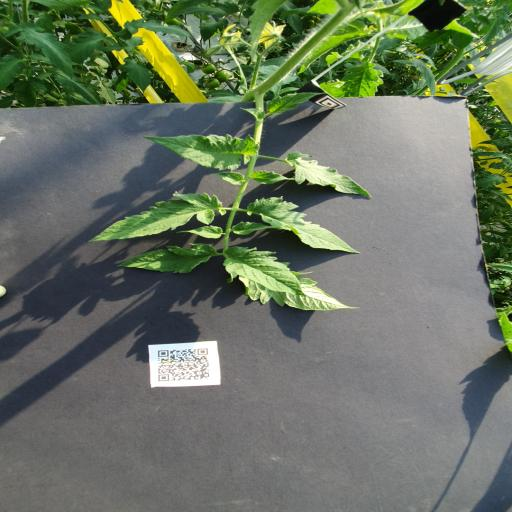Healthy: (88, 190, 227, 242), (245, 196, 361, 254), (248, 270, 361, 310), (144, 134, 260, 171), (286, 150, 371, 200), (4, 22, 74, 80), (222, 246, 303, 293), (118, 243, 217, 274), (341, 62, 384, 97), (124, 18, 194, 38), (266, 92, 326, 114), (67, 30, 105, 64), (12, 76, 49, 108), (123, 56, 152, 94), (199, 20, 229, 42), (178, 225, 222, 239), (252, 170, 295, 184), (233, 221, 269, 235), (209, 172, 245, 185)
